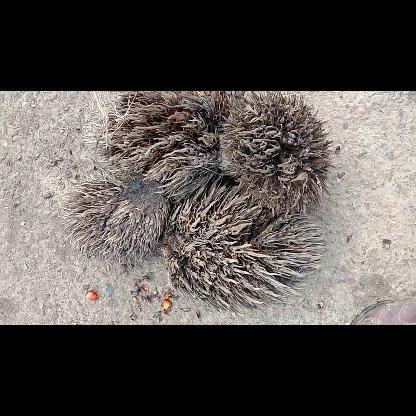Janjang kosong: (163, 184, 323, 312), (84, 91, 246, 199), (222, 91, 332, 215), (65, 168, 169, 264)
